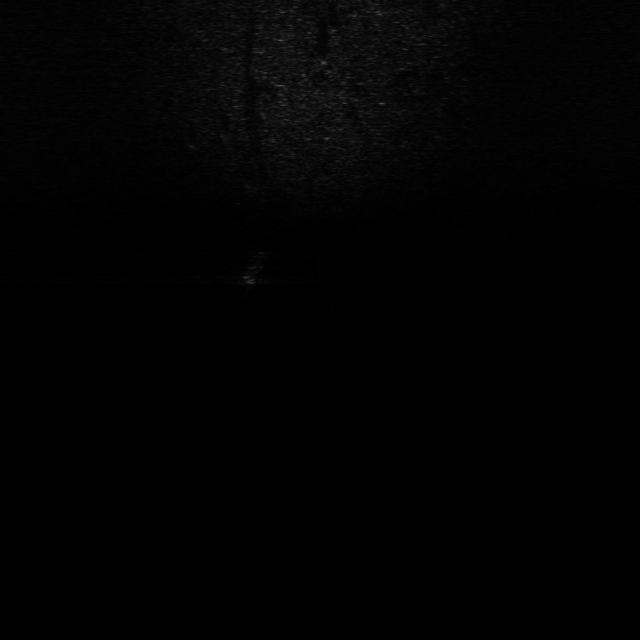human body: (239, 245, 273, 303)
